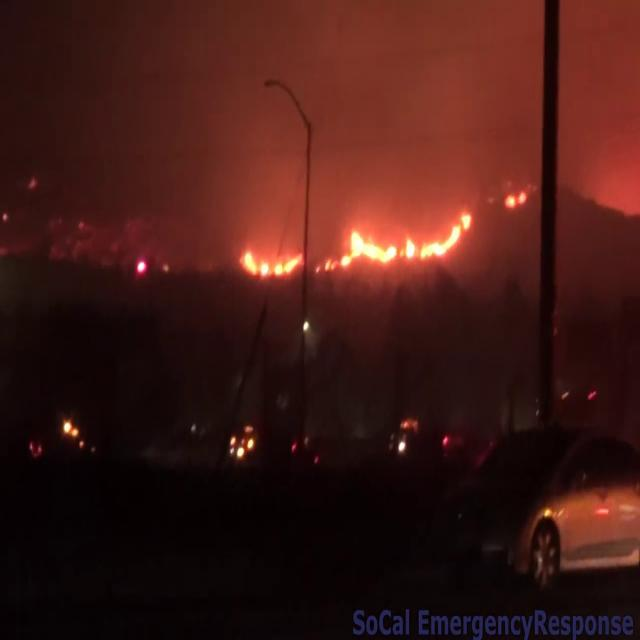Fire: (324, 208, 475, 276), (239, 239, 301, 285)
Smoke: (81, 0, 600, 229)
